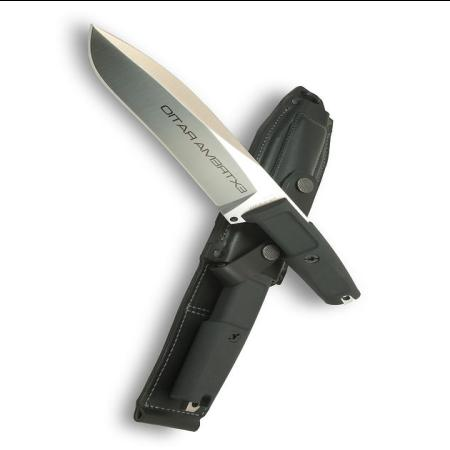long weapon: (76, 14, 292, 224)
